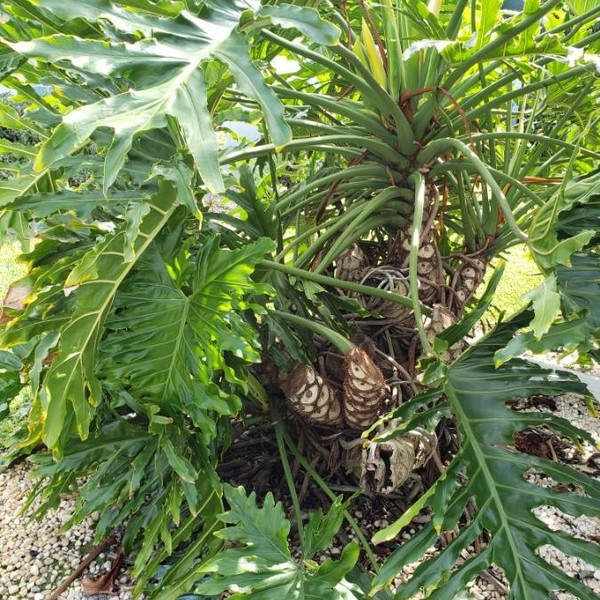obstacle: (60, 46, 536, 513)
